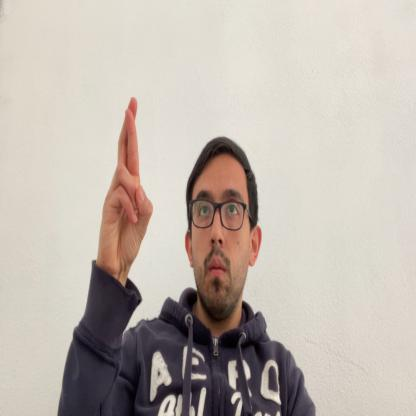R: (97, 96, 153, 274)
